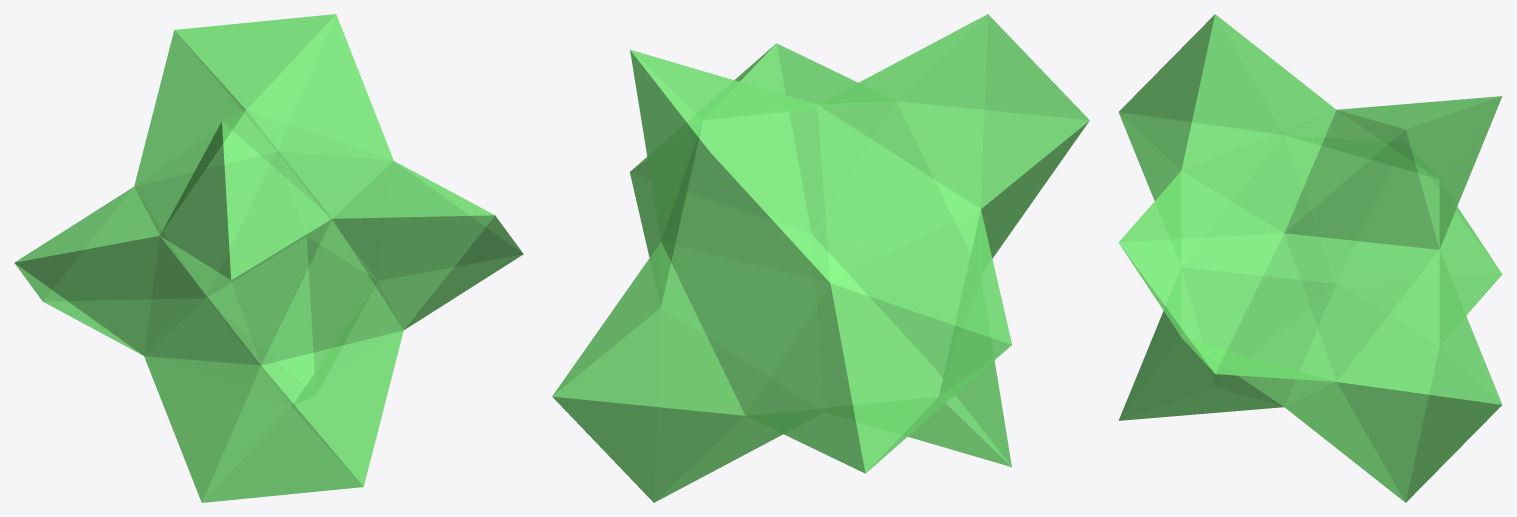
File: 30_Hexaspheniated_Icosahedron.obj
3 renders of one model, left to right at view 1: azimuth 30°, elevation 25°; view 2: azimuth 150°, elevation 25°; view 3: azimuth 270°, elevation 25°, orthographic. The views are drawn at different scales.
Size of the model in its own units: 2.92 by 2.61 by 2.29.
